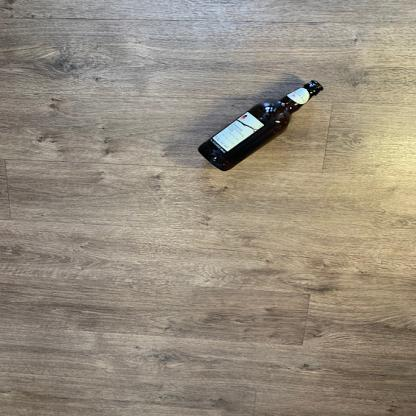trash: (195, 79, 322, 172)
